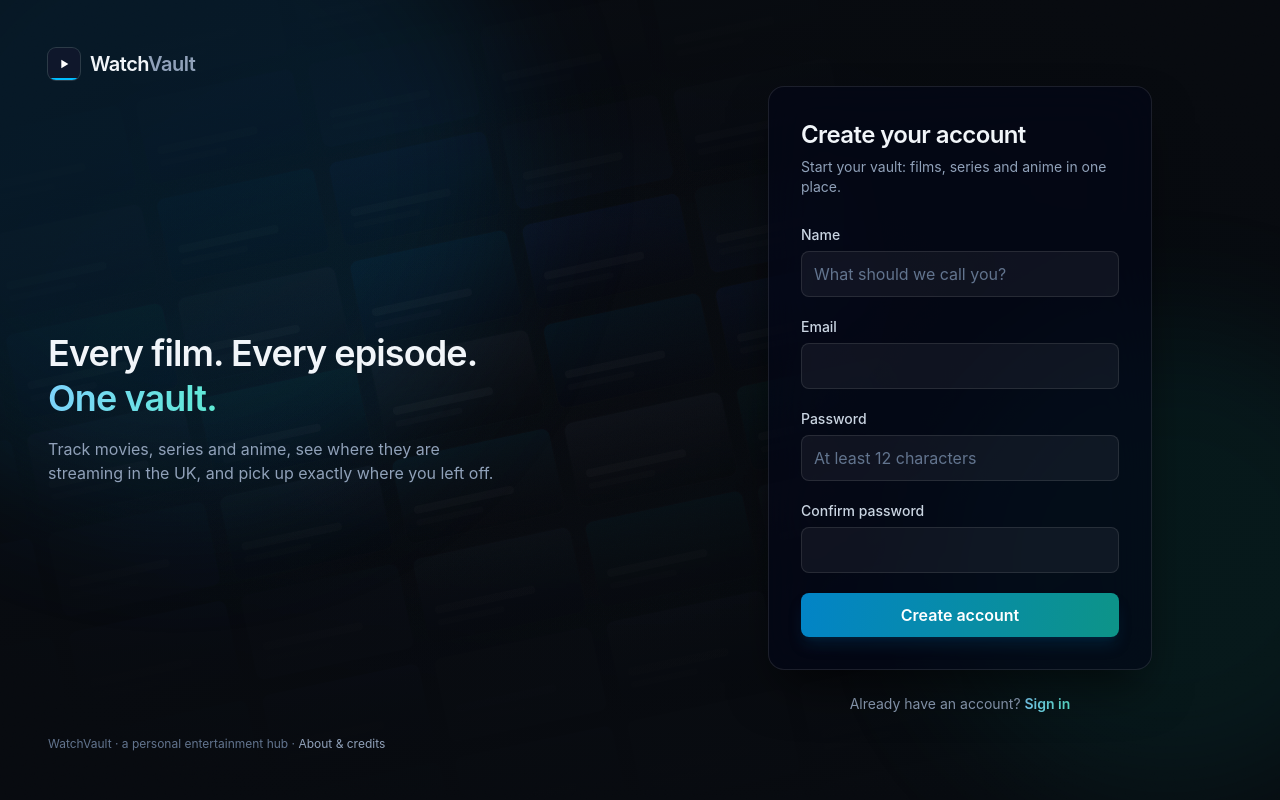
Test: register › creates the account, logs in and lands on the home page
Type "Alice" into the field labelled "Name" at (960, 274), box [801, 251, 1119, 297]
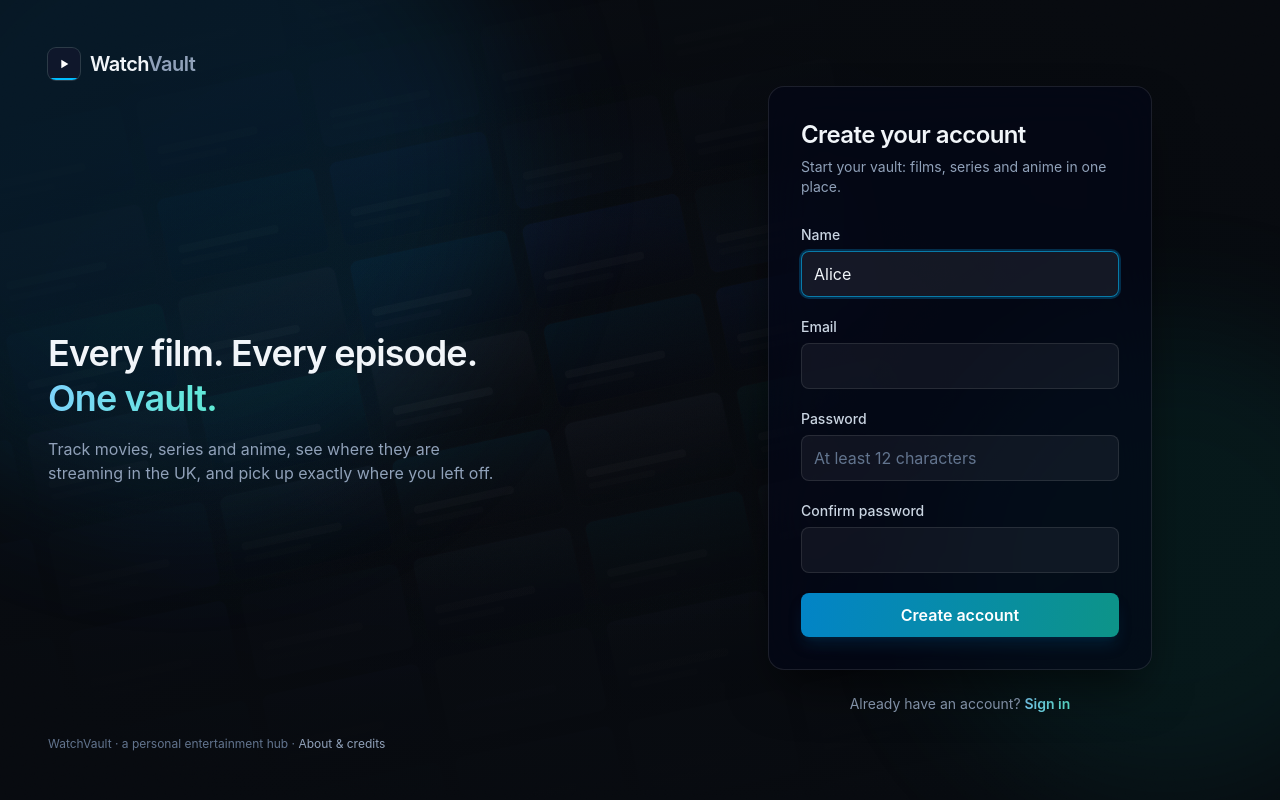
Type "alice@example.com" into the field labelled "Email" at (960, 366), box [801, 343, 1119, 389]
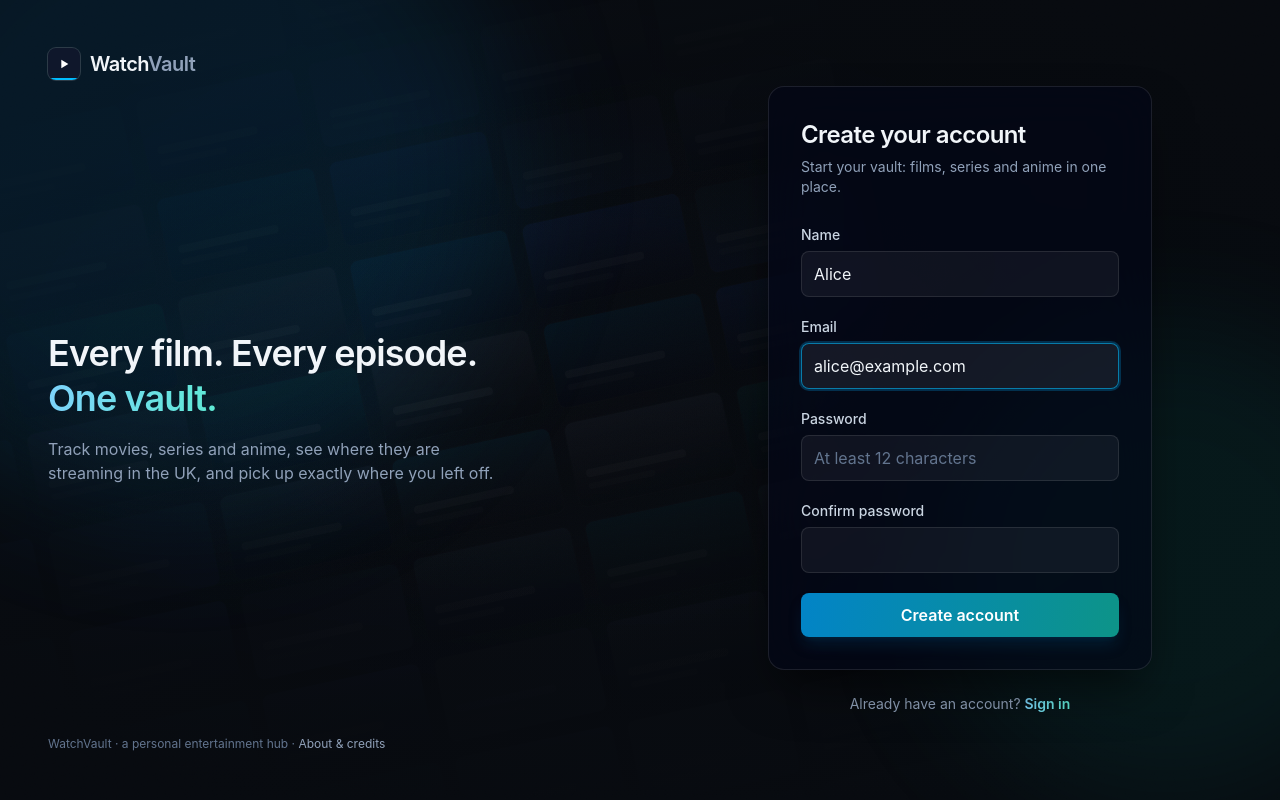
Type "correct horse battery" into the password field labelled "Password" at (960, 458), box [801, 435, 1119, 481]
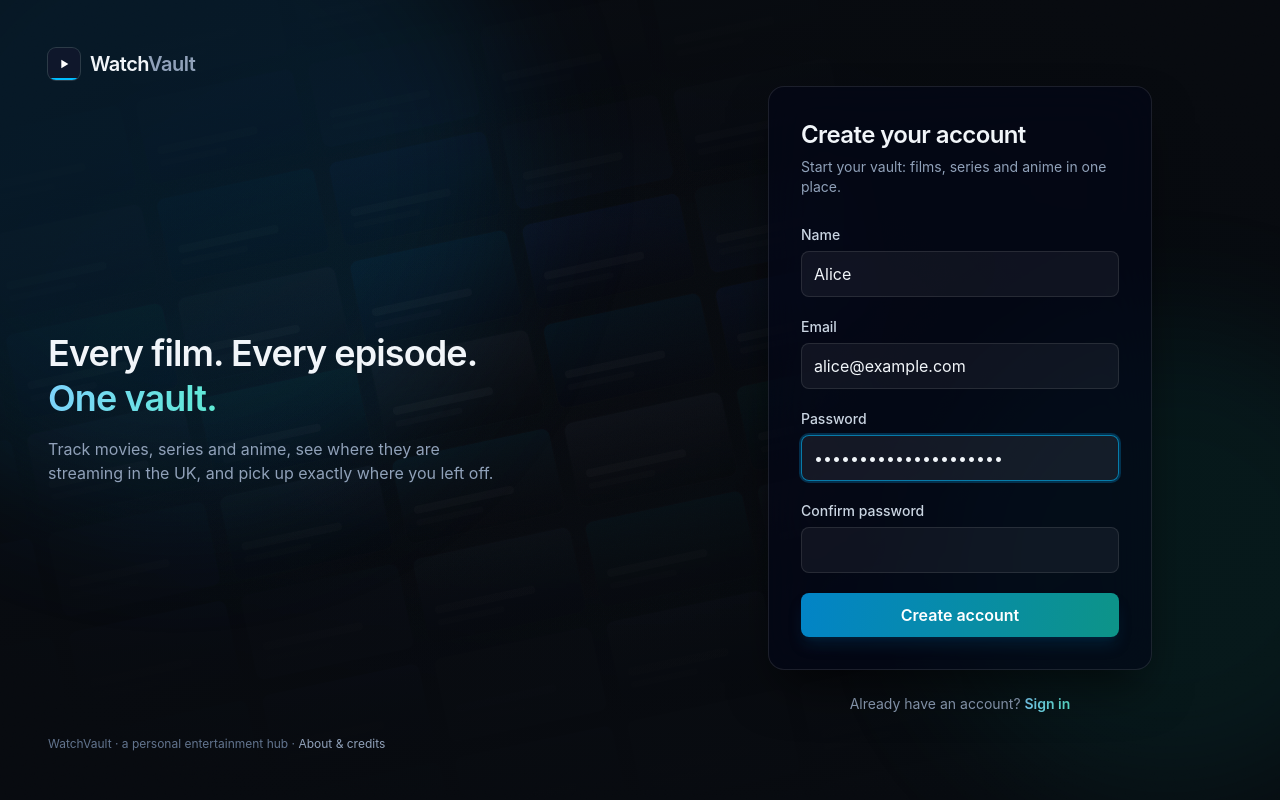
Type "correct horse battery" into the password field labelled "Confirm password" at (960, 550), box [801, 527, 1119, 573]
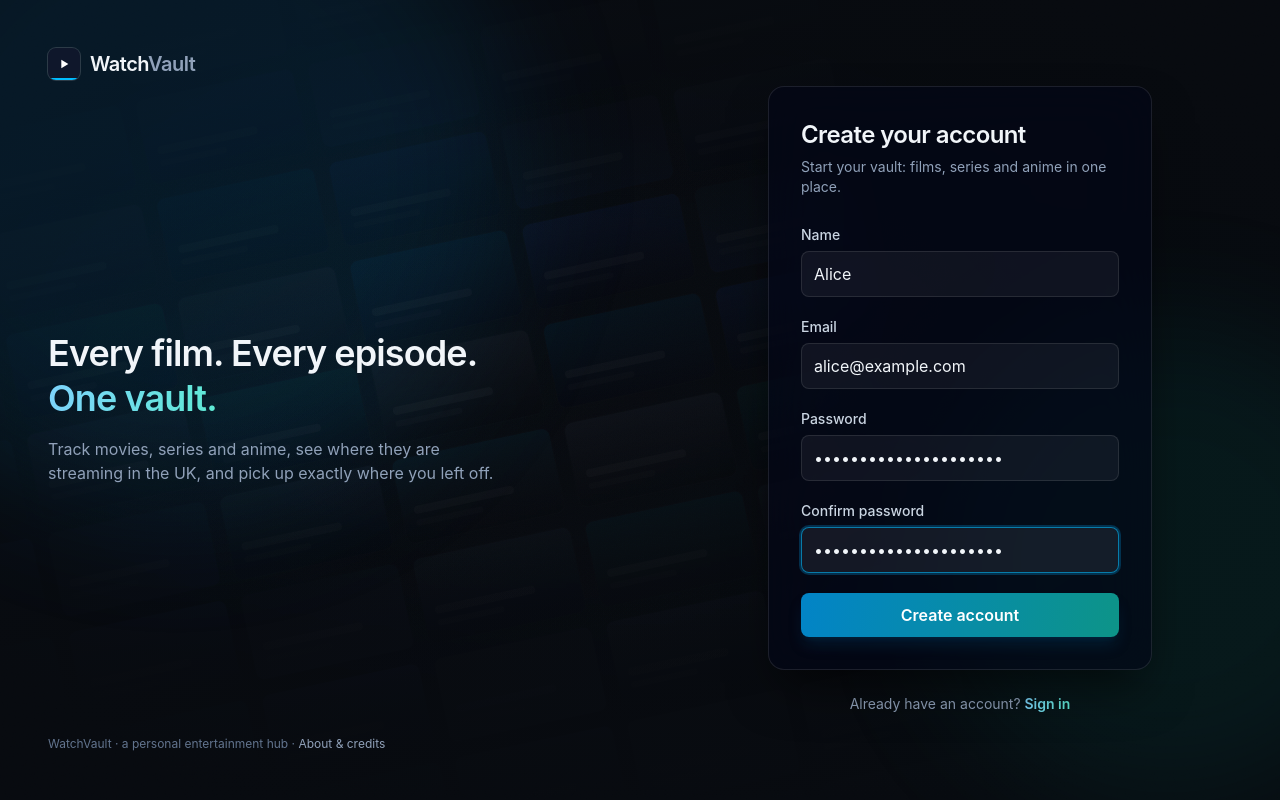
Click the button "Create account" at (960, 615), box [801, 593, 1119, 637]
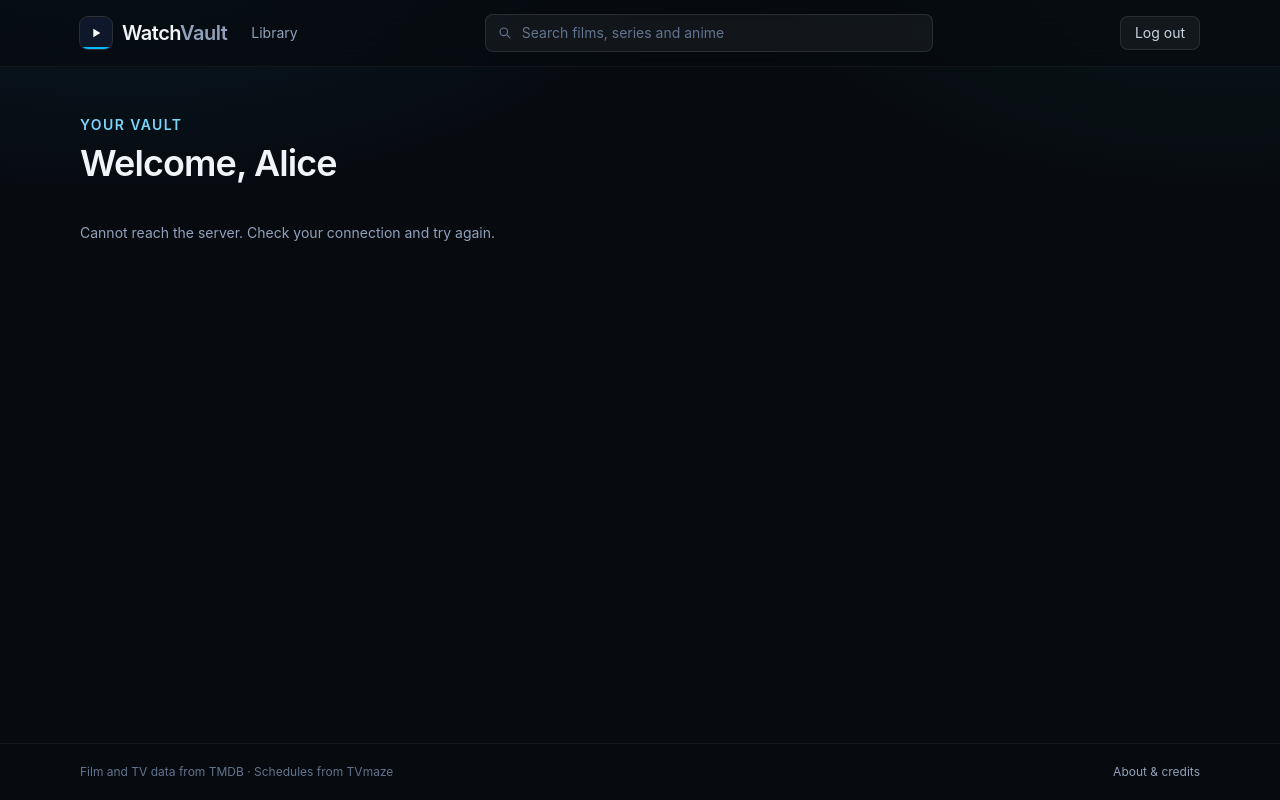
Result: the heading "Welcome, Alice" is shown at [80, 141, 337, 185]
